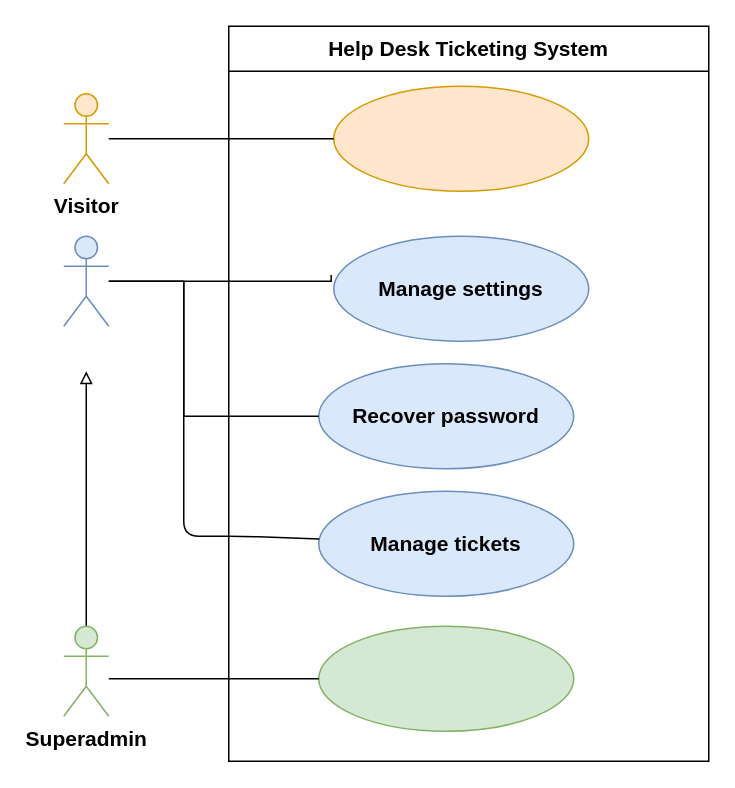
The diagram is 735 pixels wide and 788 high, and some of its shapes have lost their labels. The shapes that lost their labels are listed below. From the top down, each one's box as (x1, y1, x2, y2) in pixels, then its label:
(332, 85, 589, 191): Register
(62, 235, 109, 326): User
(317, 625, 574, 731): Manage users
